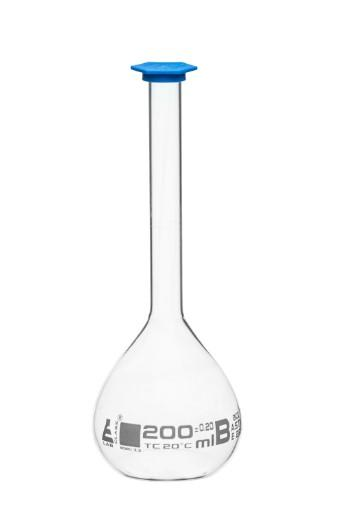Volumetric flask: (76, 55, 261, 485)
